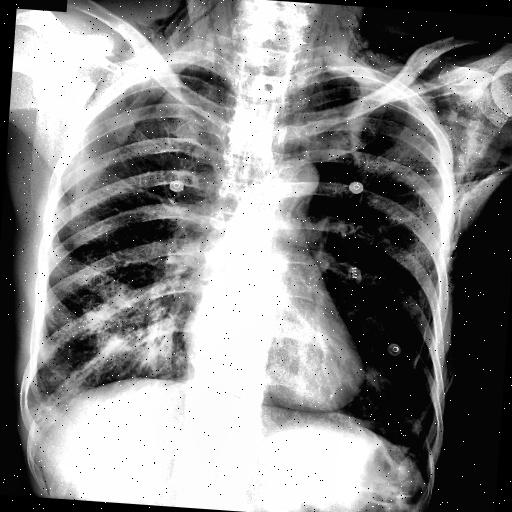0- Aortic enlargement: (268, 156, 320, 198)
10- Pleural effusion: (16, 386, 68, 432), (26, 397, 50, 419)
11- Pleural thickening: (16, 386, 68, 432), (26, 397, 50, 419)
13- Pulmonary fibrosis: (410, 310, 436, 372), (415, 306, 433, 376), (412, 308, 431, 374)
6- Infiltration: (96, 273, 182, 373)
7- Lung Opacity: (22, 276, 178, 432), (16, 386, 68, 432)
9- Other lesion: (391, 47, 495, 378), (120, 0, 474, 71), (139, 0, 428, 80), (356, 142, 512, 269), (434, 143, 510, 367), (330, 10, 492, 70), (441, 194, 477, 360), (302, 56, 368, 134), (148, 0, 222, 45), (262, 394, 350, 422)
